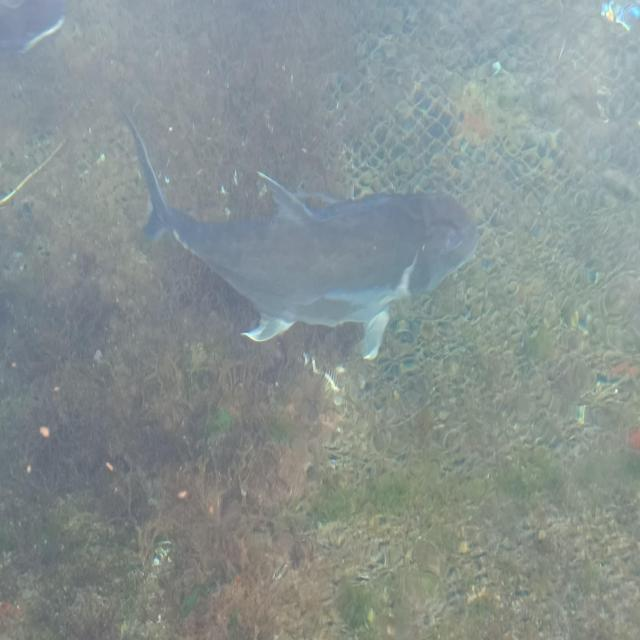ikan: (127, 121, 510, 352)
